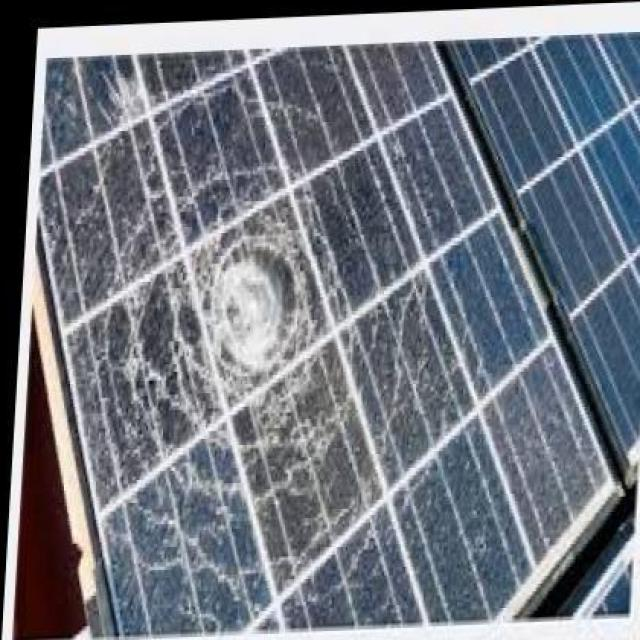cracked: (40, 51, 610, 614)
